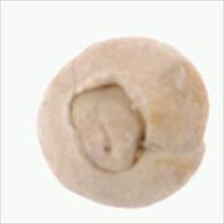L3: (67, 81, 152, 172)
L4: (38, 36, 209, 209)
